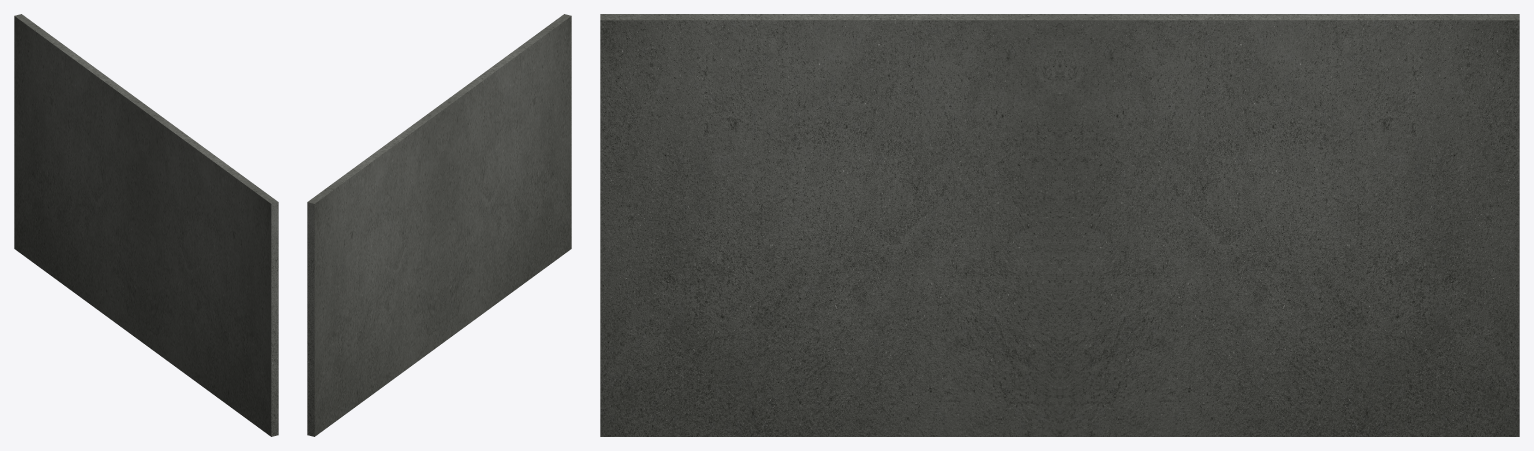
The model's file is Pared.fbx.
3 renders of one model, left to right at view 1: azimuth 30°, elevation 25°; view 2: azimuth 150°, elevation 25°; view 3: azimuth 270°, elevation 25°, orthographic. The views are drawn at different scales.
Parts seen in each view (by area): view 1: Pared.003; view 2: Pared.003; view 3: Pared.003.
Boxes of the visible parts, bbox=[...] form: Pared.003: bbox=[14, 14, 278, 436]; Pared.003: bbox=[307, 14, 571, 436]; Pared.003: bbox=[600, 14, 1519, 436].
Bounding box in the file's own units: 10 × 300 × 600.
Materials: 1 (1 with a texture image).
